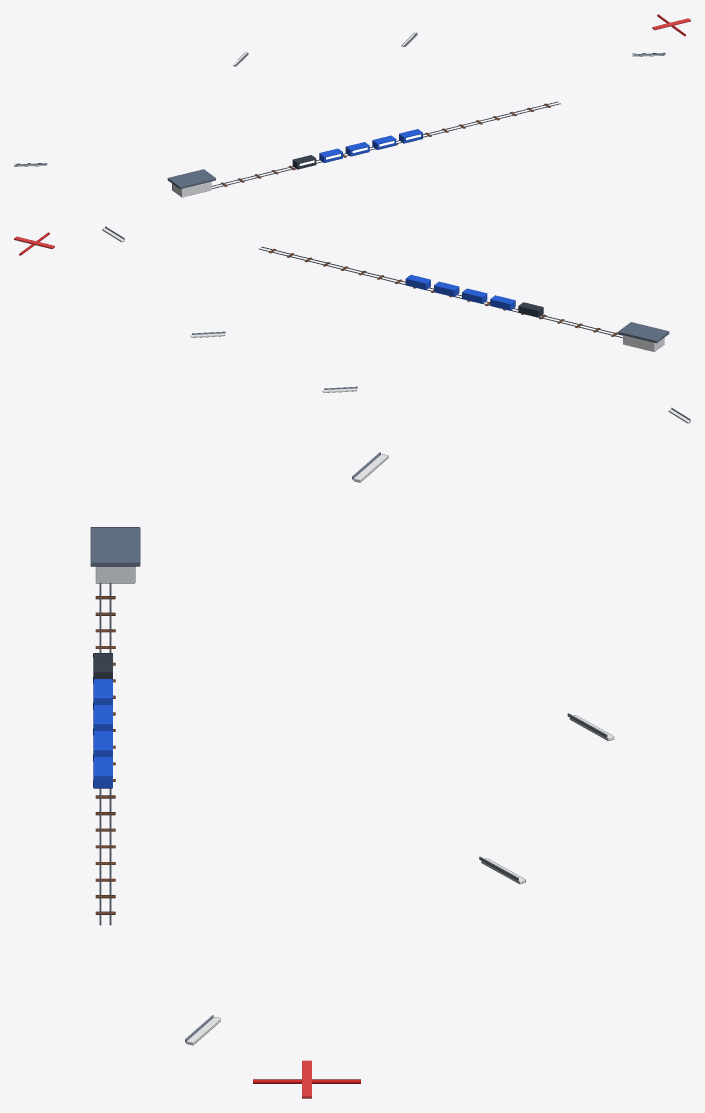
The model's file is jinhae.glb.
3 renders of one model, top to bottom at view 1: azimuth 30°, elevation 25°; view 2: azimuth 150°, elevation 25°; view 3: azimuth 270°, elevation 25°, orthographic. The views are drawn at different scales.
Visible parts, largest first — view 1: jinhae_landmarks; view 2: jinhae_landmarks; view 3: jinhae_landmarks.
Boxes of the visible parts, <box> form: jinhae_landmarks: <box>14,14,690,197</box>; jinhae_landmarks: <box>14,226,690,423</box>; jinhae_landmarks: <box>90,452,614,1098</box>.
Bounding box in the file's own units: 617 × 11.16 × 213.
